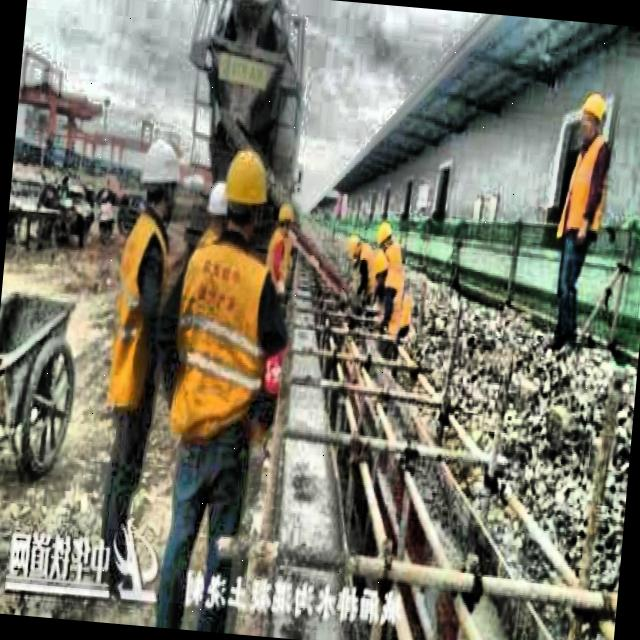helmet: (218, 138, 274, 246), (136, 134, 183, 215), (200, 173, 234, 241), (572, 90, 606, 146), (274, 194, 299, 245), (339, 228, 368, 270), (368, 248, 391, 294), (371, 218, 398, 254)
